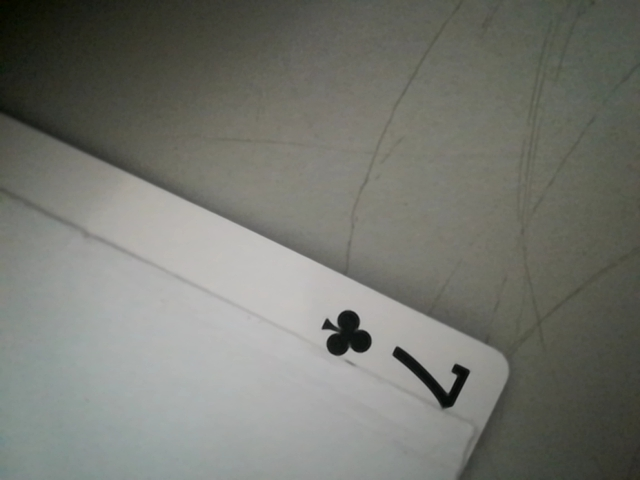mh 7: (301, 300, 484, 415)
